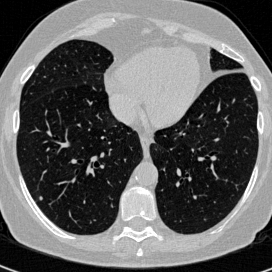nodule: (39, 196, 43, 200)
